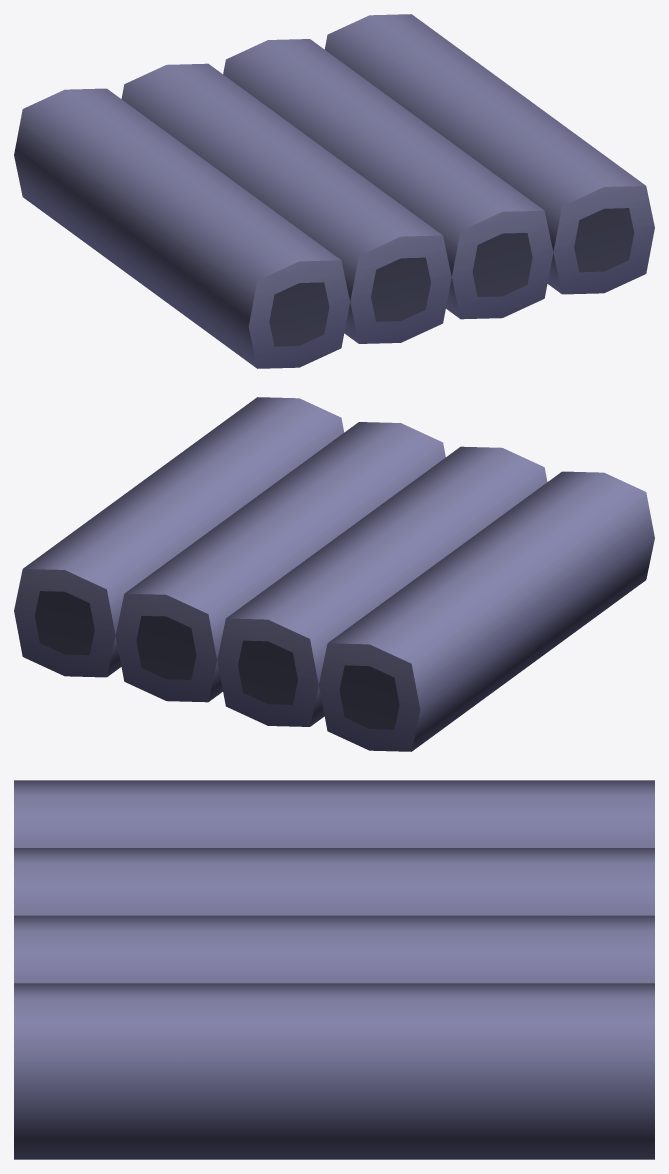
File: kenney-conveyor-conveyor-bars.glb
The picture shows the model from 3 angles, top to bottom: view 1: azimuth 30°, elevation 25°; view 2: azimuth 150°, elevation 25°; view 3: azimuth 270°, elevation 25°; orthographic projection. The views are drawn at different scales.
Visible parts, largest first — view 1: conveyor-bars; view 2: conveyor-bars; view 3: conveyor-bars.
Part boxes in pixels (left/top/right/bottom): conveyor-bars: left=14, top=14, right=654, bottom=368; conveyor-bars: left=14, top=397, right=654, bottom=751; conveyor-bars: left=14, top=780, right=654, bottom=1159.
Size of the model in its own units: 1 by 0.25 by 1.
1 material, 1 textured.
